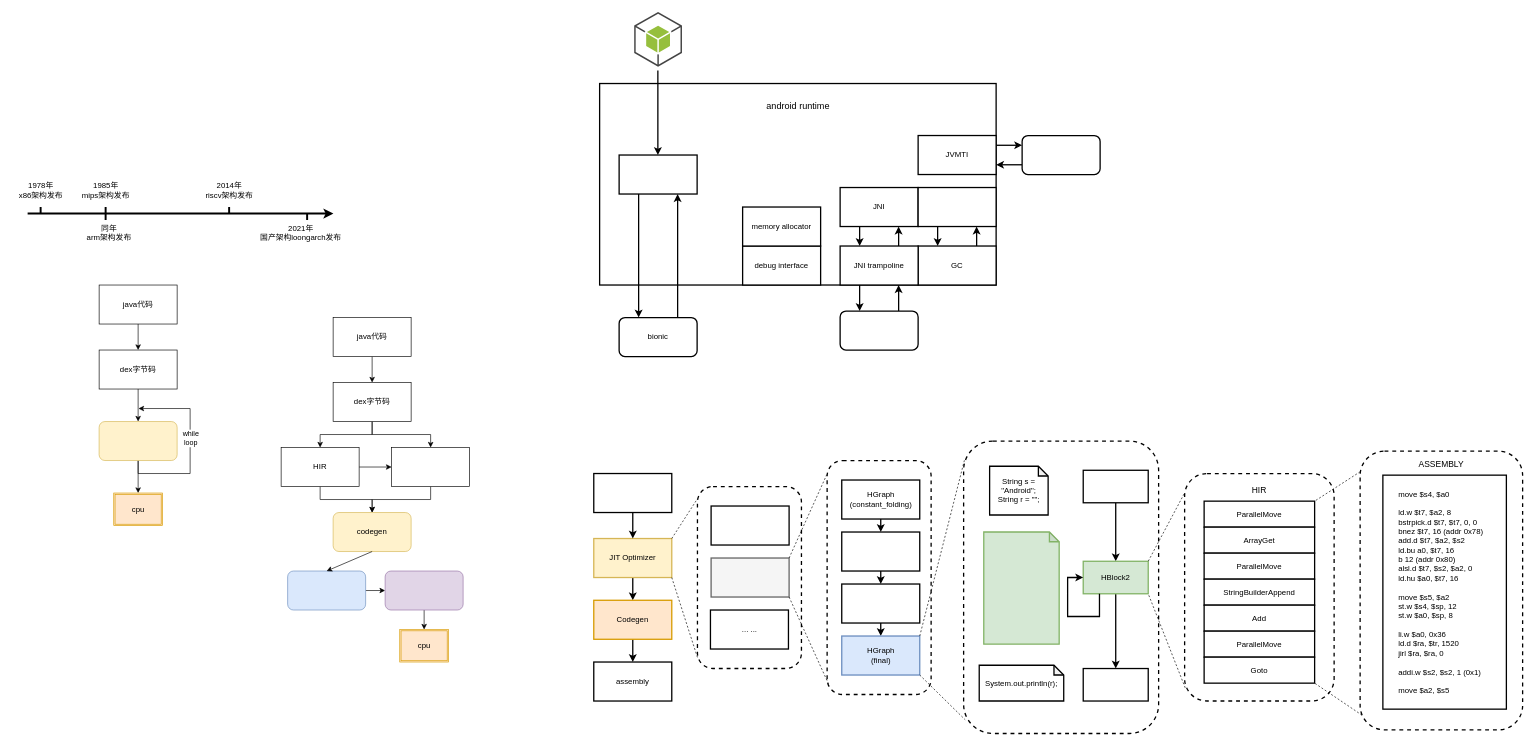
This 1534x745 diagram has some shape labels left out. The centre of each missing label's shape, as x and y in pixels:
"art解释器" belongs at pixel 137 441.
"assembler" belongs at pixel 326 590.
"fault handler" belongs at pixel 657 174.
"for (int i = 0; i < s.length(); i++) { ch = s.charAt(i); r = ch + r; }" belongs at pixel 1021 587.
"HBlock1" belongs at pixel 1115 486.
"HBlock3" belongs at pixel 1115 684.
"HGraph" belongs at pixel 430 467.
"HGraph (... ...)" belongs at pixel 880 603.
"HGraph dead code elimination" belongs at pixel 880 551.
"Java MethodA" belongs at pixel 749 525.
"Java MethodB" belongs at pixel 749 577.
"Java Program" belongs at pixel 632 493.
"JIT Cache" belongs at pixel 956 207.
"libInstrument.so" belongs at pixel 1060 155.
"libnative.so" belongs at pixel 878 330.
"linker" belongs at pixel 423 590.
